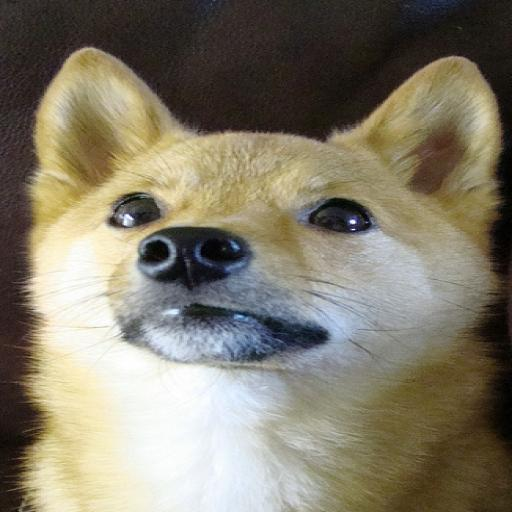dog_face: (28, 59, 479, 368)
